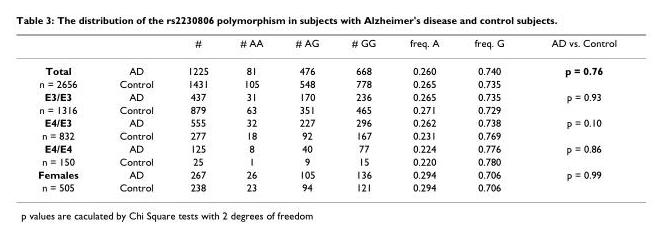table: (37, 36, 616, 192)
table column: (527, 36, 616, 192), (98, 36, 169, 192), (456, 36, 527, 192), (392, 36, 456, 192), (37, 36, 98, 192), (334, 36, 392, 192), (278, 36, 334, 192), (223, 36, 278, 192), (169, 36, 223, 192)
table column header: (37, 36, 616, 56)
table row: (37, 56, 616, 77), (37, 36, 616, 56), (37, 89, 616, 102), (37, 102, 616, 115), (37, 115, 616, 128), (37, 128, 616, 141), (37, 141, 616, 154), (37, 154, 616, 167), (37, 167, 616, 180), (37, 77, 616, 89), (37, 180, 616, 192)
